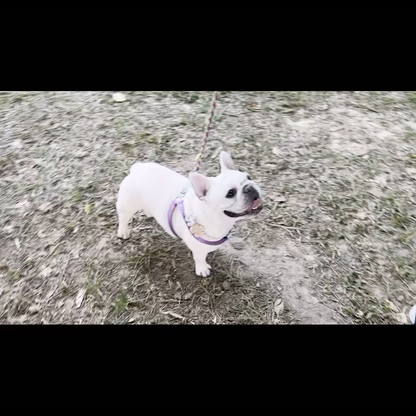bulldog: (113, 148, 269, 278)
